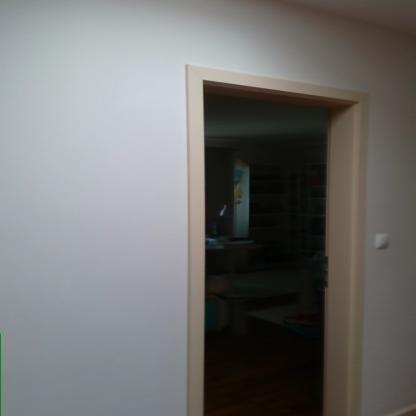open: (162, 51, 380, 415)
